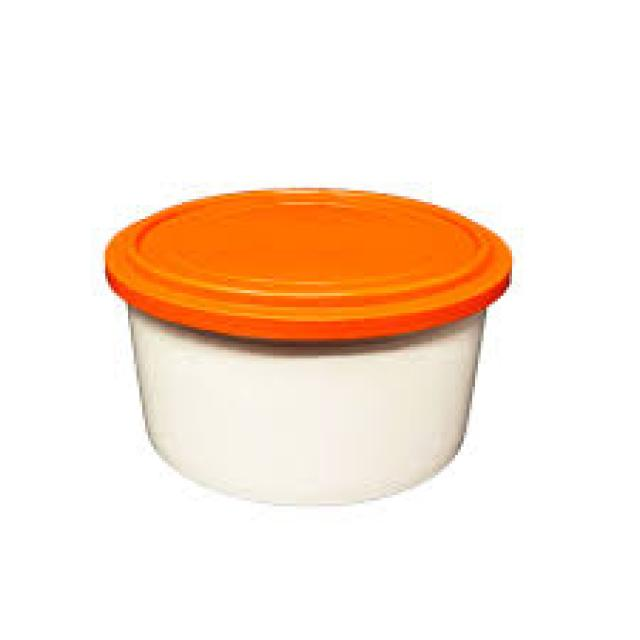disposable: (102, 182, 540, 530)
